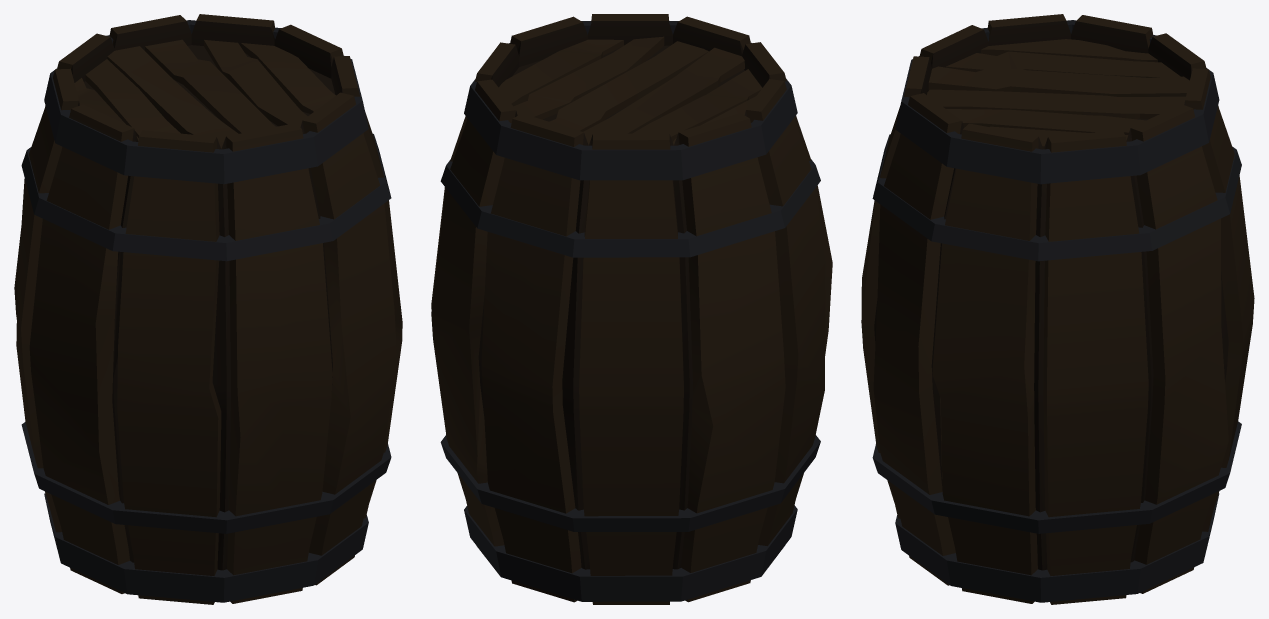
File: Barrel.obj
3 renders of one model, left to right at view 1: azimuth 30°, elevation 25°; view 2: azimuth 150°, elevation 25°; view 3: azimuth 270°, elevation 25°, orthographic.
Parts seen in each view (by area): view 1: Barrel_Cylinder.001; view 2: Barrel_Cylinder.001; view 3: Barrel_Cylinder.001.
Boxes of the visible parts, bbox=[...] form: Barrel_Cylinder.001: bbox=[14, 14, 402, 604]; Barrel_Cylinder.001: bbox=[431, 14, 832, 604]; Barrel_Cylinder.001: bbox=[861, 14, 1254, 604].
Size of the model in its own units: 0.8314 by 1.07 by 0.8241.
